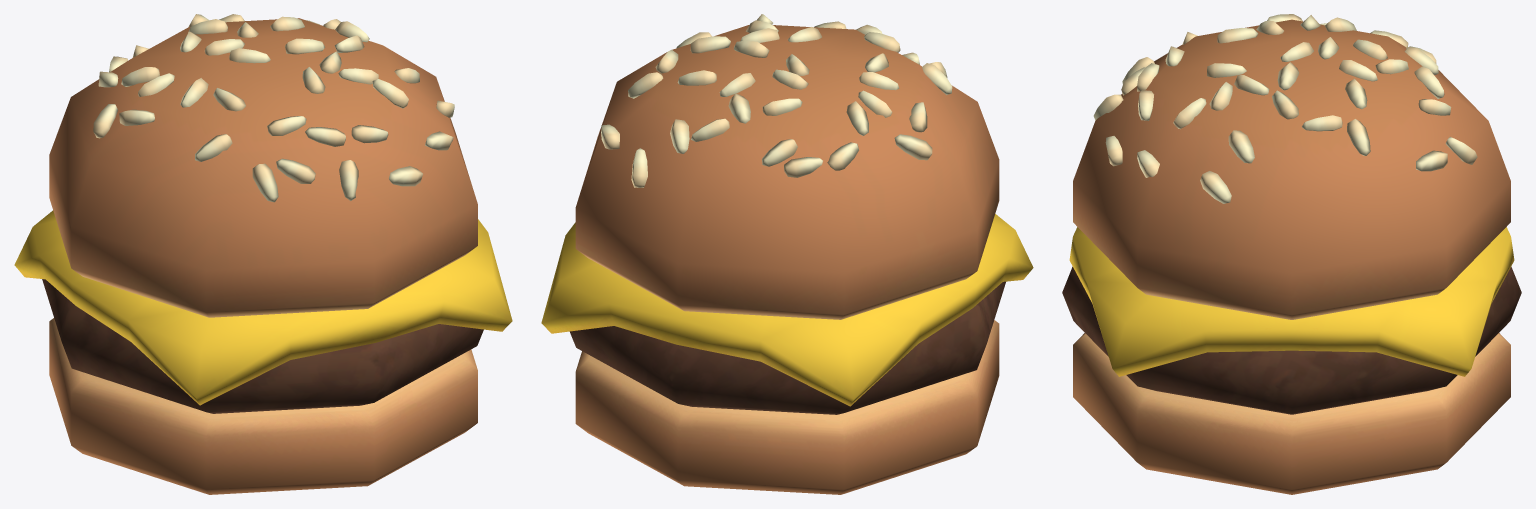
Rendered from bun_cheese_patty.obj.
3 views of the same model, side by side, from view 1: azimuth 30°, elevation 25°; view 2: azimuth 150°, elevation 25°; view 3: azimuth 270°, elevation 25° (orthographic).
Visible parts, largest first — view 1: Fullburger1; view 2: Fullburger1; view 3: Fullburger1.
Boxes of the visible parts, x1,y1,x2,y2 form: Fullburger1: (14,14,512,494); Fullburger1: (541,14,1033,494); Fullburger1: (1062,14,1521,494).
Size of the model in its own units: 2.1 by 1.81 by 2.1.
1 material, 1 textured.
